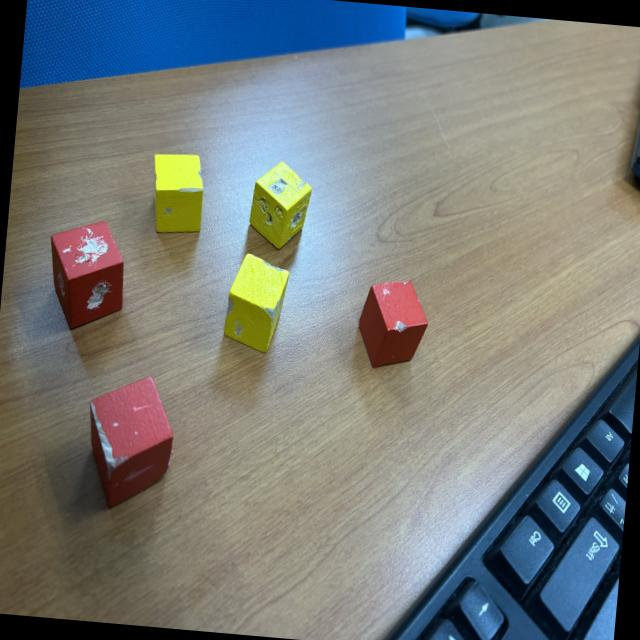broken: (80, 369, 178, 515), (42, 214, 130, 338), (222, 251, 291, 356), (356, 276, 431, 371), (245, 157, 314, 251), (146, 150, 208, 238)
